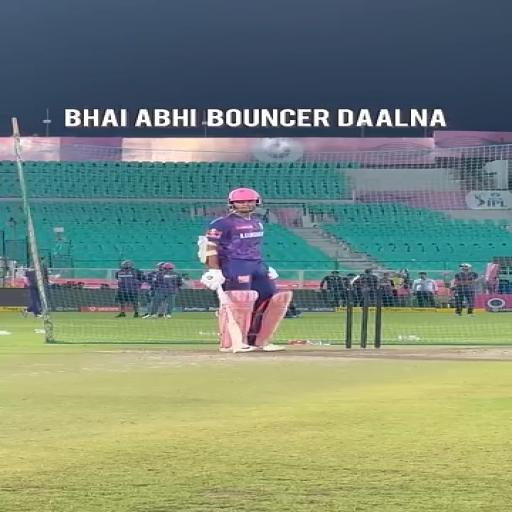Cricket bat: (218, 289, 242, 353)
